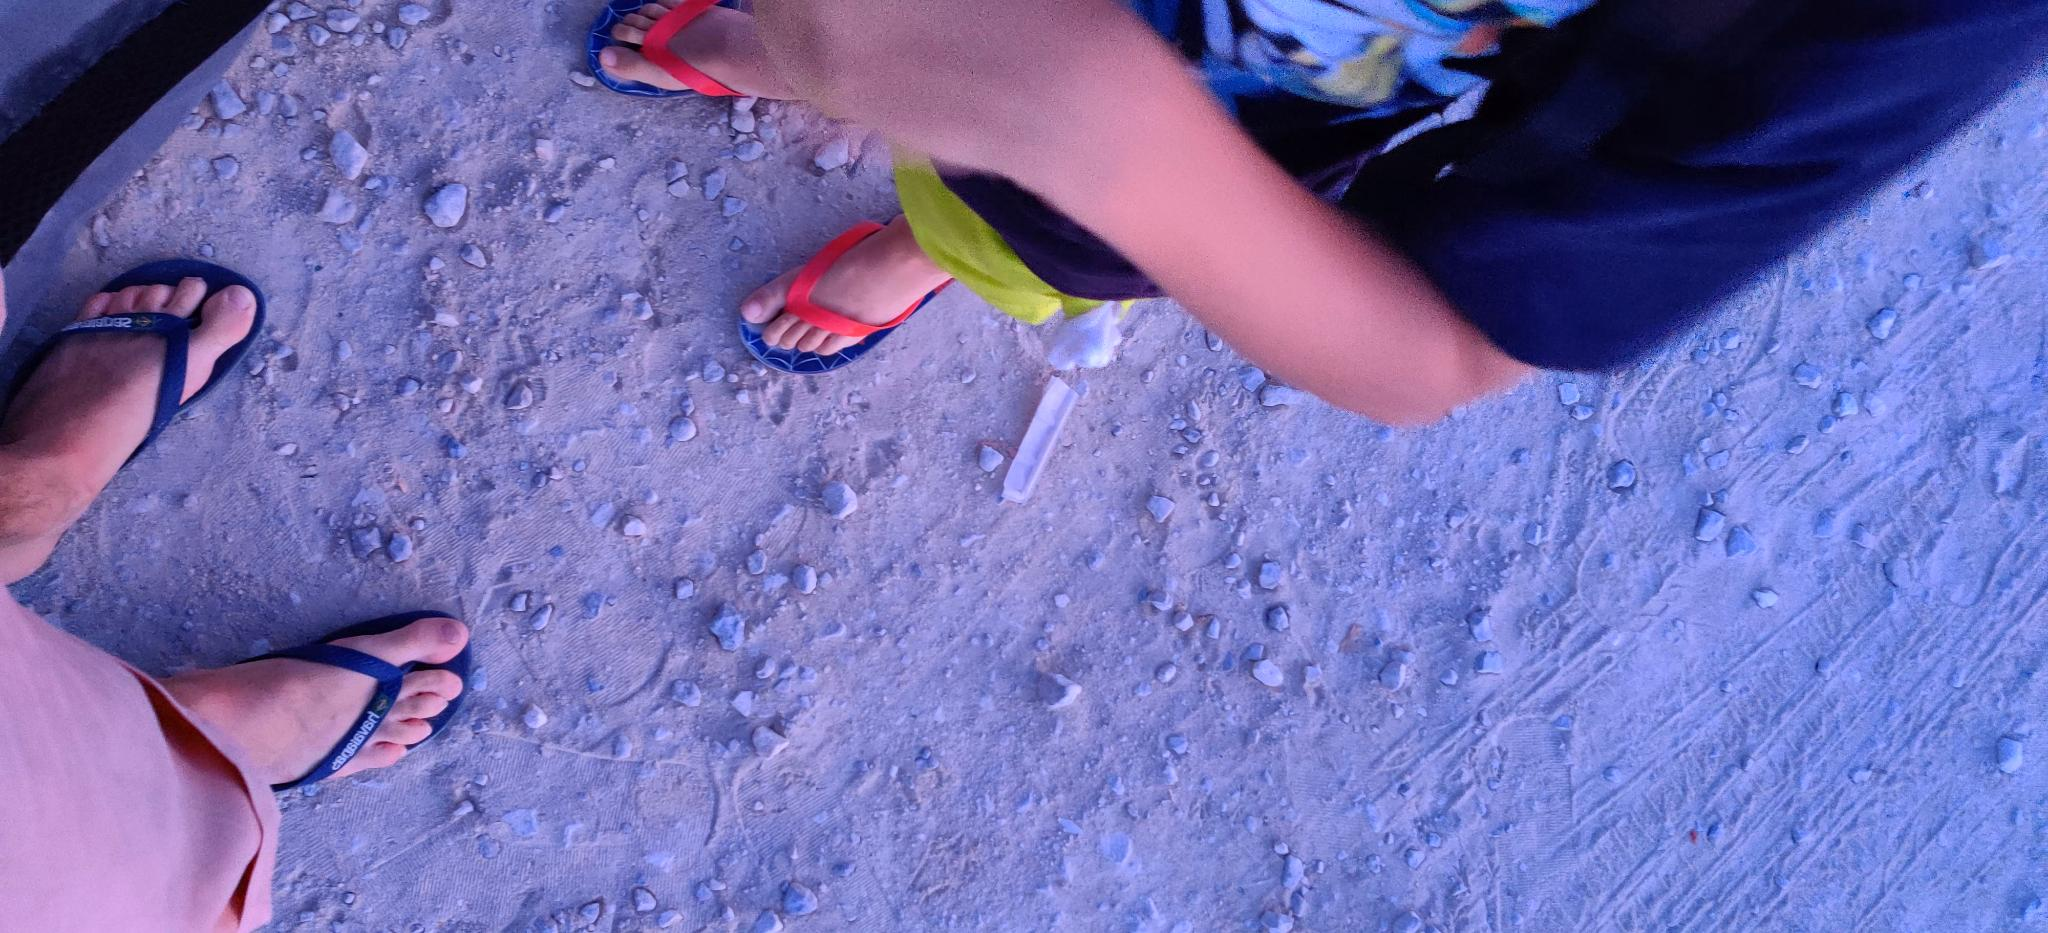Plastic: (993, 370, 1081, 510)
